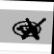not correct: (9, 15, 49, 43)
